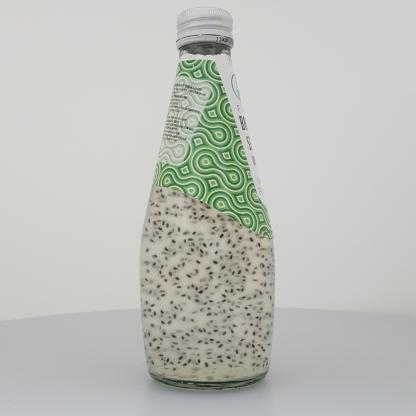------------------------: (139, 6, 275, 391)
